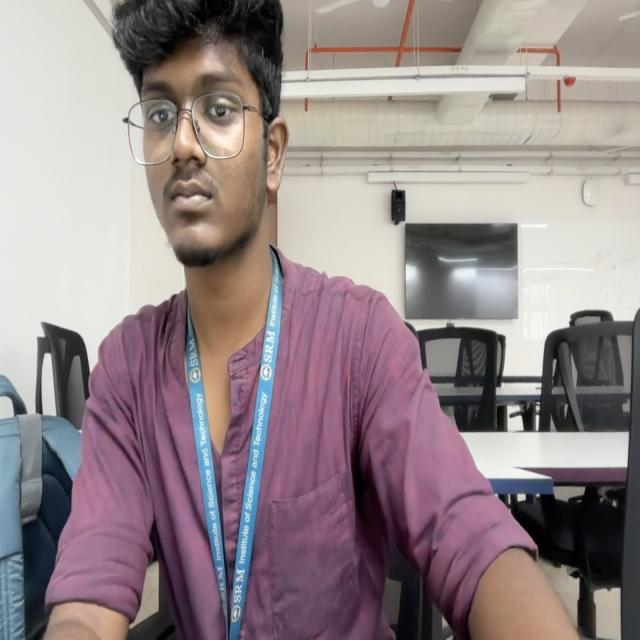ravindra: (110, 2, 289, 272)
